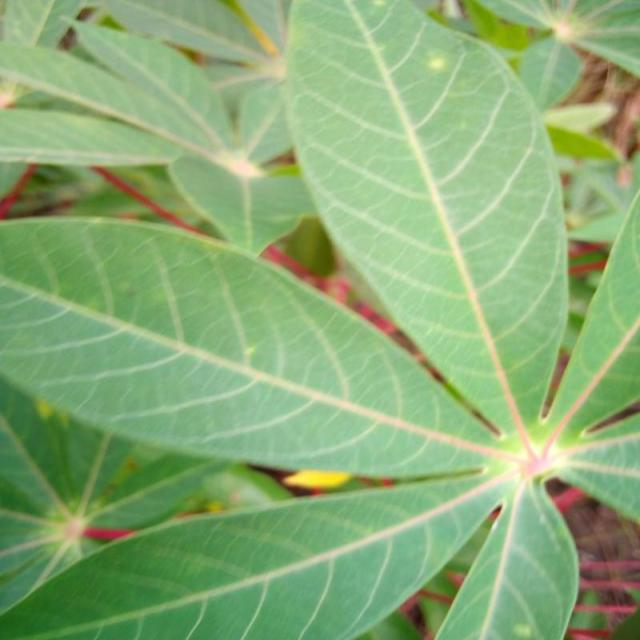cassava leaf: (0, 0, 639, 639), (282, 0, 570, 442)
